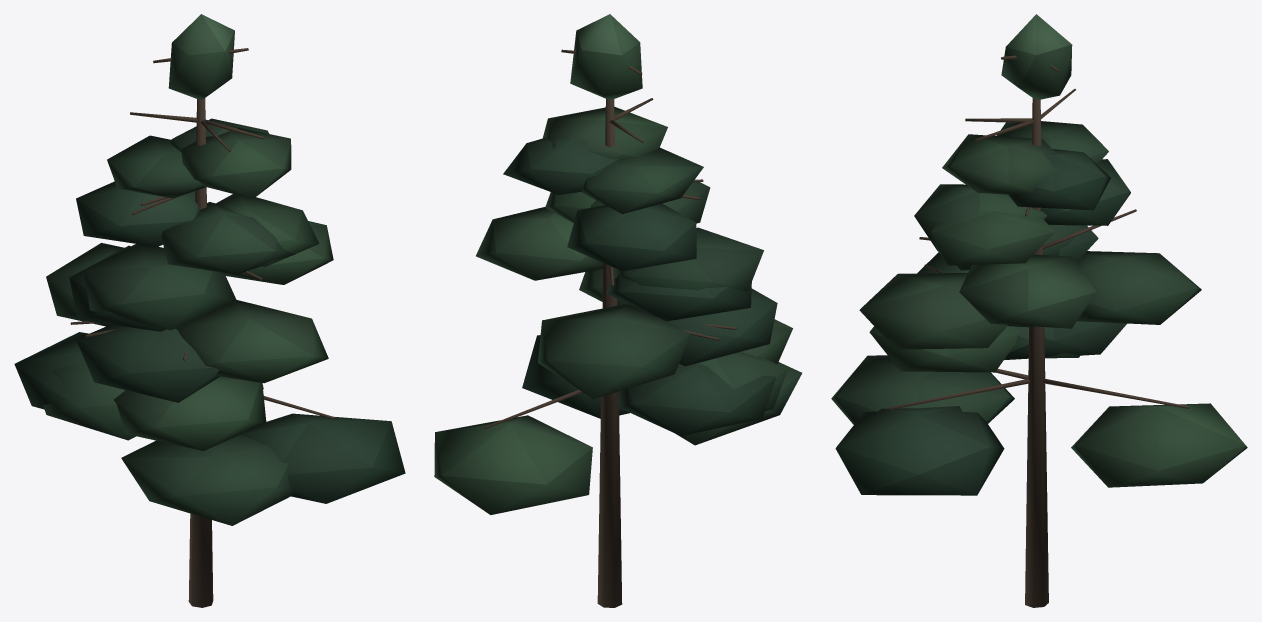
The model's file is env_wpine.glb.
3 renders of one model, left to right at view 1: azimuth 30°, elevation 25°; view 2: azimuth 150°, elevation 25°; view 3: azimuth 270°, elevation 25°, orthographic.
Parts seen in each view (by area): view 1: env_wpine; view 2: env_wpine; view 3: env_wpine.
Part boxes in pixels (left/top/right/bottom): env_wpine: left=14, top=14, right=405, bottom=607; env_wpine: left=434, top=14, right=802, bottom=607; env_wpine: left=831, top=14, right=1247, bottom=607.
Size of the model in its own units: 12.08 by 23.22 by 14.89.
